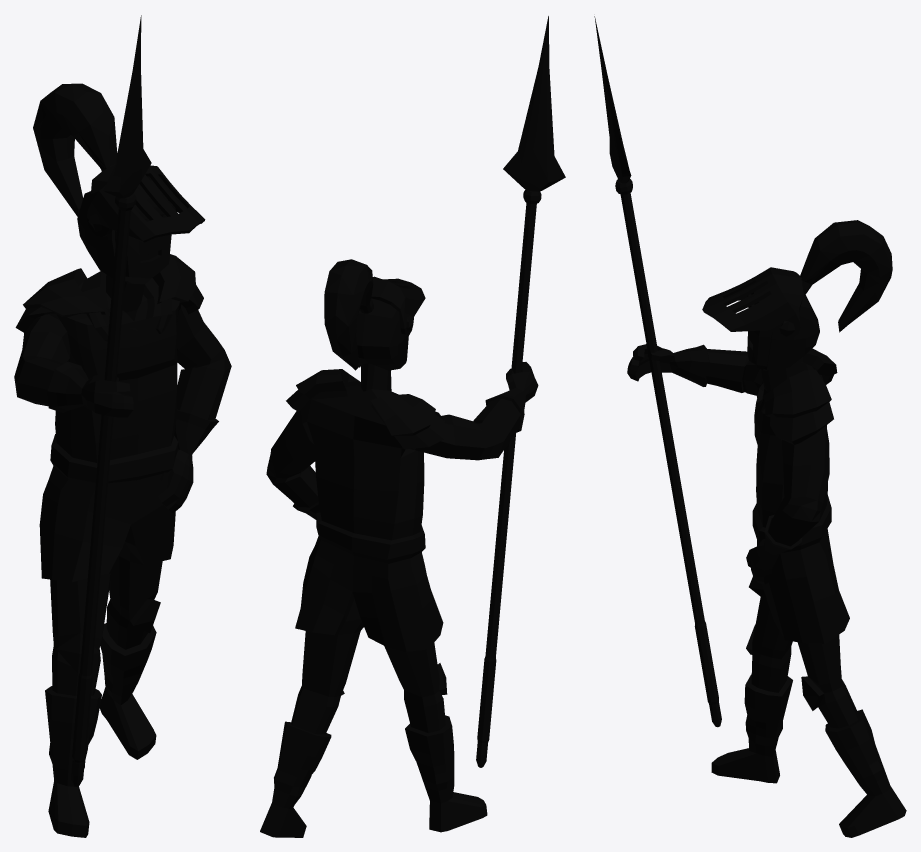
File: Statue_Knight.fbx
3 views of the same model, side by side, from view 1: azimuth 30°, elevation 25°; view 2: azimuth 150°, elevation 25°; view 3: azimuth 270°, elevation 25° (orthographic). The views are drawn at different scales.
Visible parts, largest first — view 1: Statue Knight; view 2: Statue Knight; view 3: Statue Knight.
Boxes of the visible parts, x1,y1,x2,y2 form: Statue Knight: (14, 15, 231, 837); Statue Knight: (260, 16, 565, 837); Statue Knight: (594, 16, 906, 837).
Bounding box in the file's own units: 84.8 × 297 × 110.
